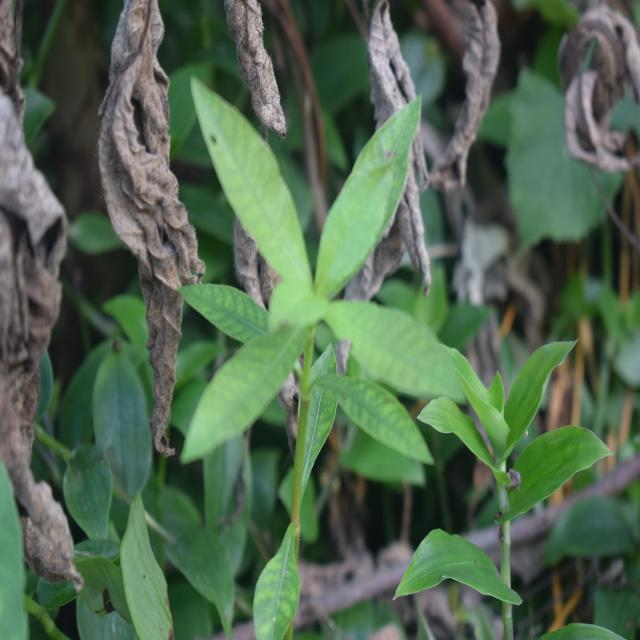Alligatorweed: (187, 91, 456, 541)
